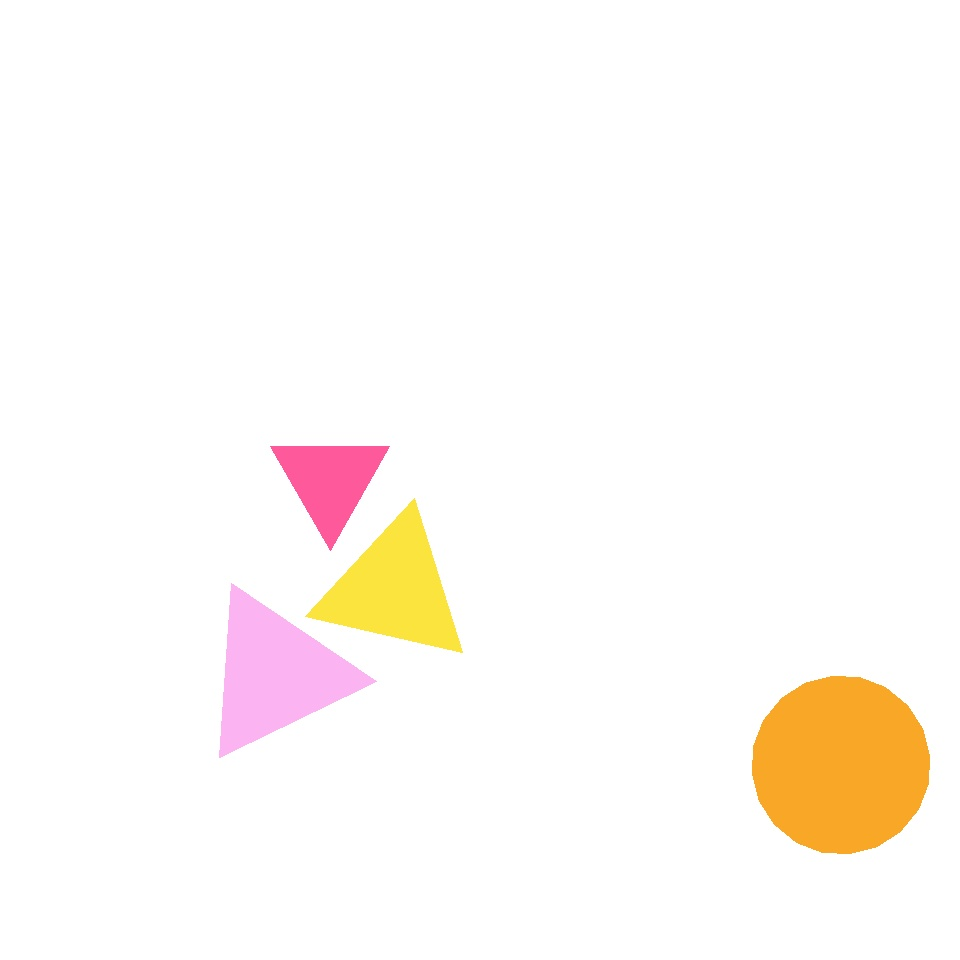circle: (85, 130, 332, 352), (50, 423, 218, 603), (197, 587, 354, 761), (460, 439, 618, 599), (316, 512, 472, 666), (510, 59, 652, 187), (270, 429, 390, 533)
triangle: (72, 134, 253, 314), (753, 676, 930, 854)
